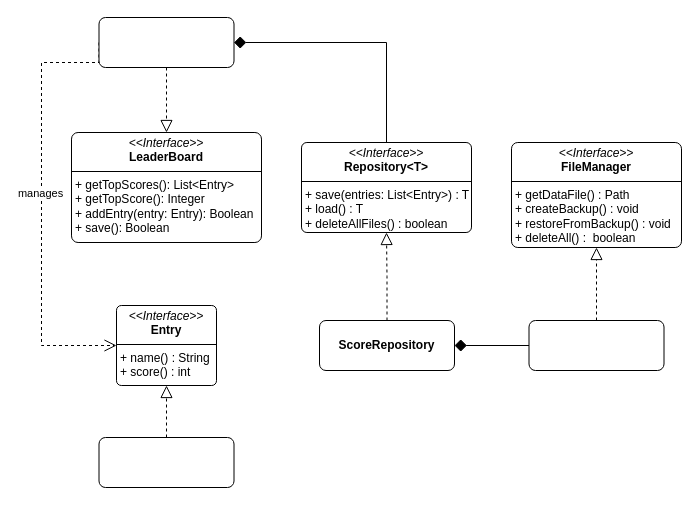
This 699x505 diagram has some shape labels left out. The shapes that lost their labels are listed below. From the top down, each one's box as (x1, y1, x2, y2) in pixels, then its label:
(98, 16, 234, 68): GameLeaderBoard
(528, 320, 664, 370): ScoreFileManager
(98, 436, 234, 488): ScoreEntry
